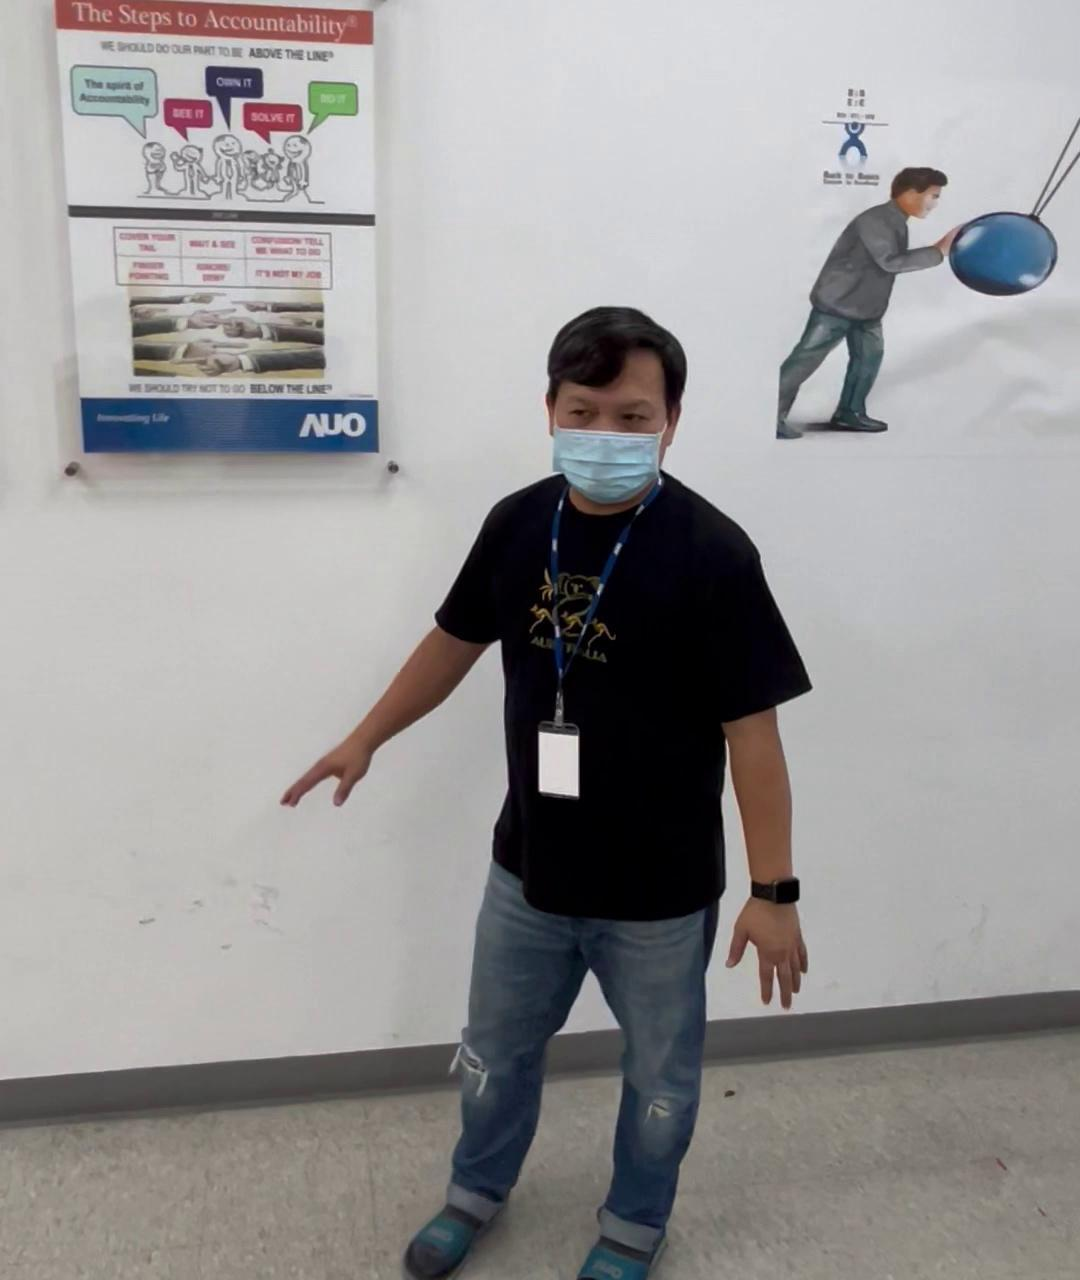No-gloves: (724, 884, 810, 1014), (275, 727, 377, 815)
